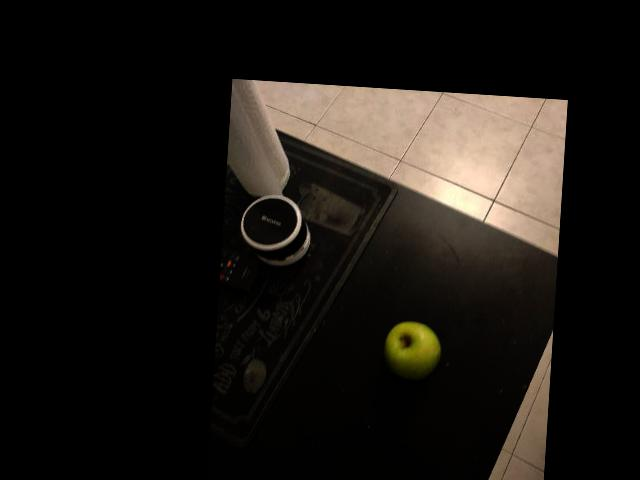apple: (437, 197, 534, 275)
